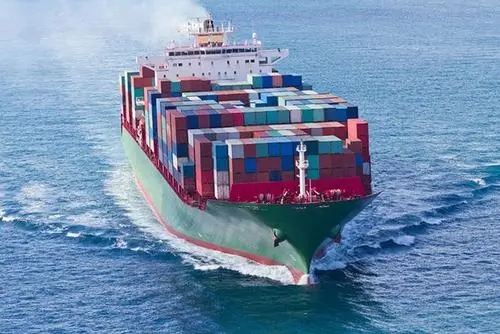Cargoship: (118, 13, 383, 288)
